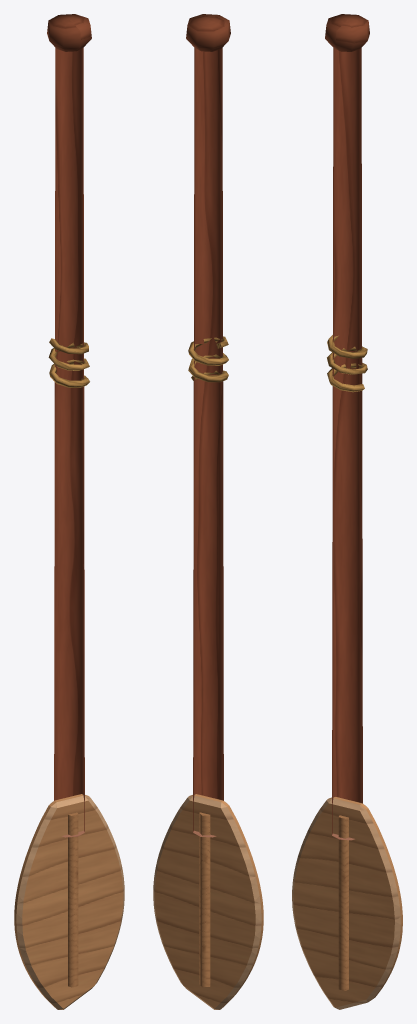
Rendered from boitha.glb.
The picture shows the model from 3 angles, left to right: view 1: azimuth 30°, elevation 25°; view 2: azimuth 150°, elevation 25°; view 3: azimuth 330°, elevation 25°; orthographic projection.
Visible parts, largest first — view 1: paddle; view 2: paddle; view 3: paddle.
Boxes of the visible parts, bbox=[...] form: paddle: bbox=[14, 14, 124, 1009]; paddle: bbox=[153, 14, 263, 1009]; paddle: bbox=[292, 14, 402, 1009].
Size of the model in its own units: 0.172 by 1.5 by 0.064.
Materials: 2 (2 with a texture image).
